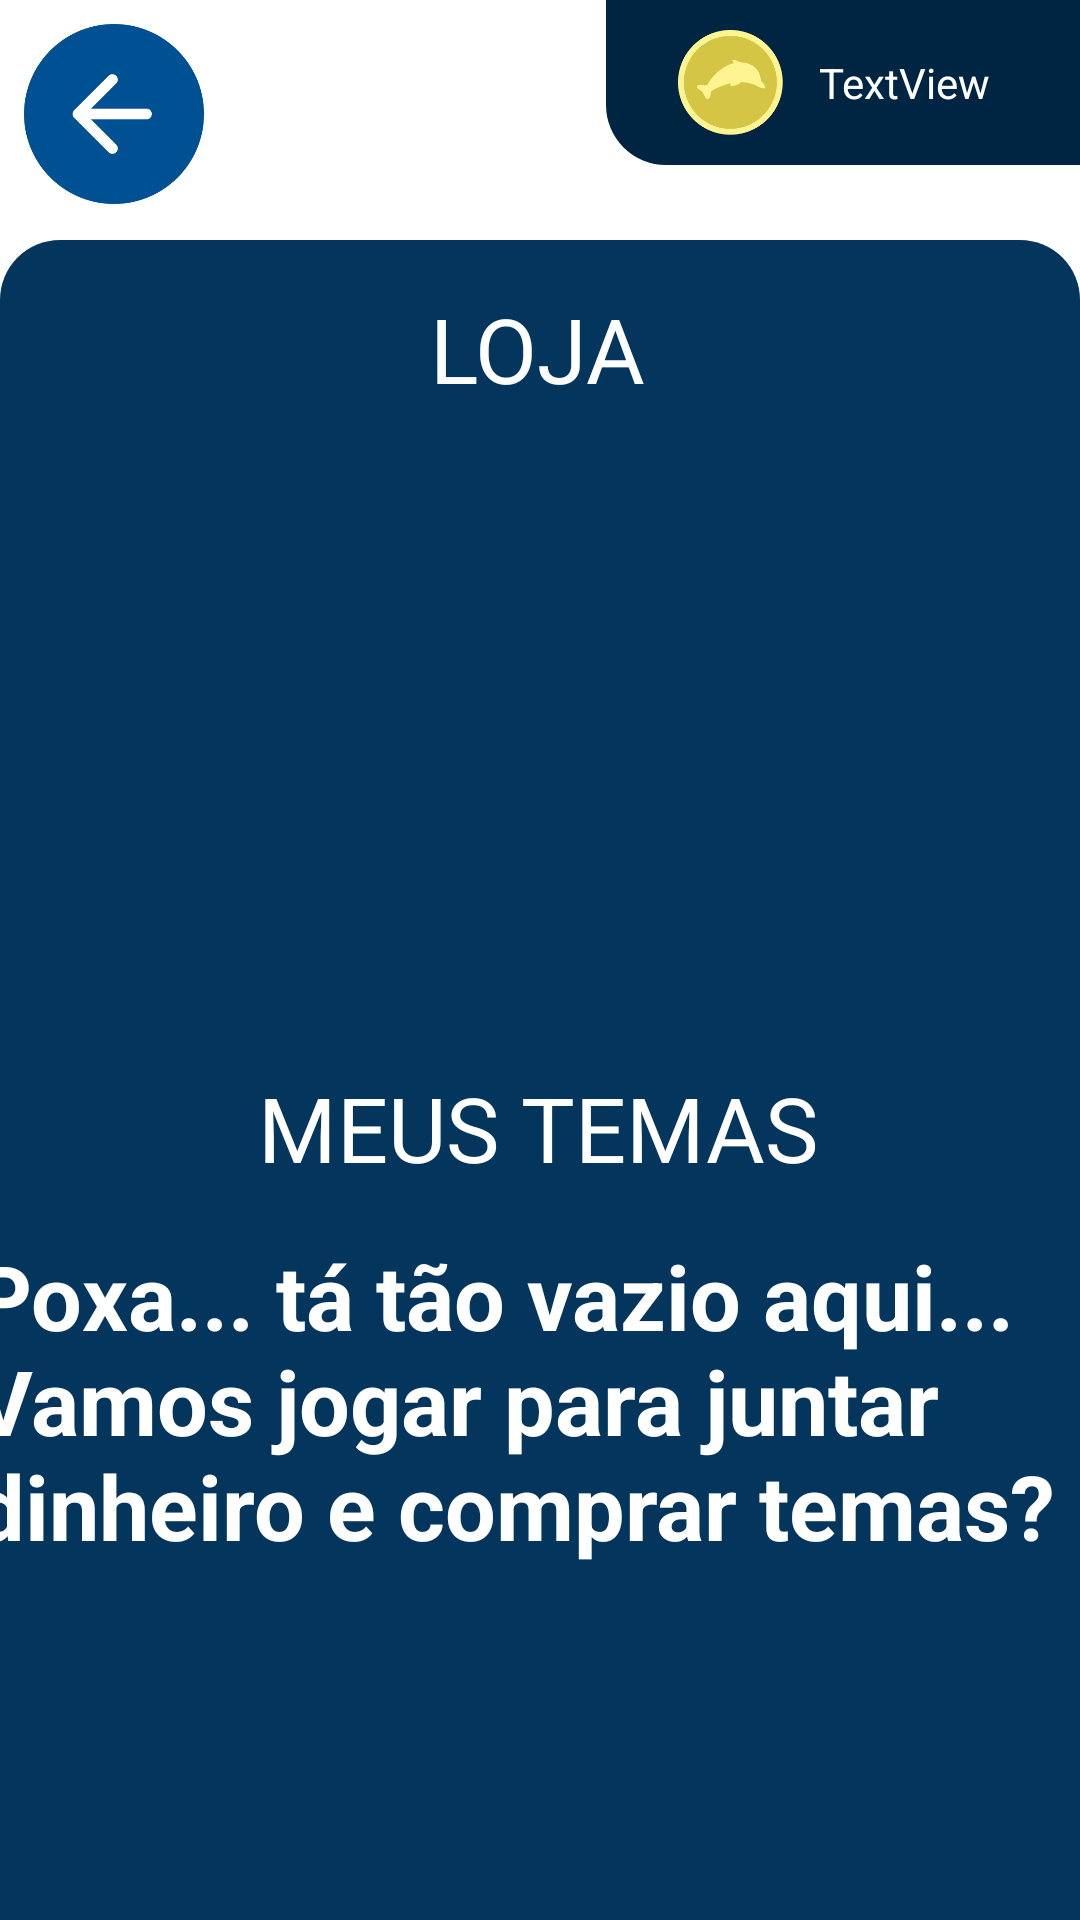

Icon click points for this 1080px x 1920px phone screenshot, format point (x, y):
moeda: point (730, 82)
seta voltar: point (114, 114)
